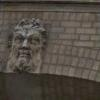Statue: (4, 11, 63, 80)
